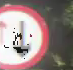Two way: (0, 3, 51, 67)
